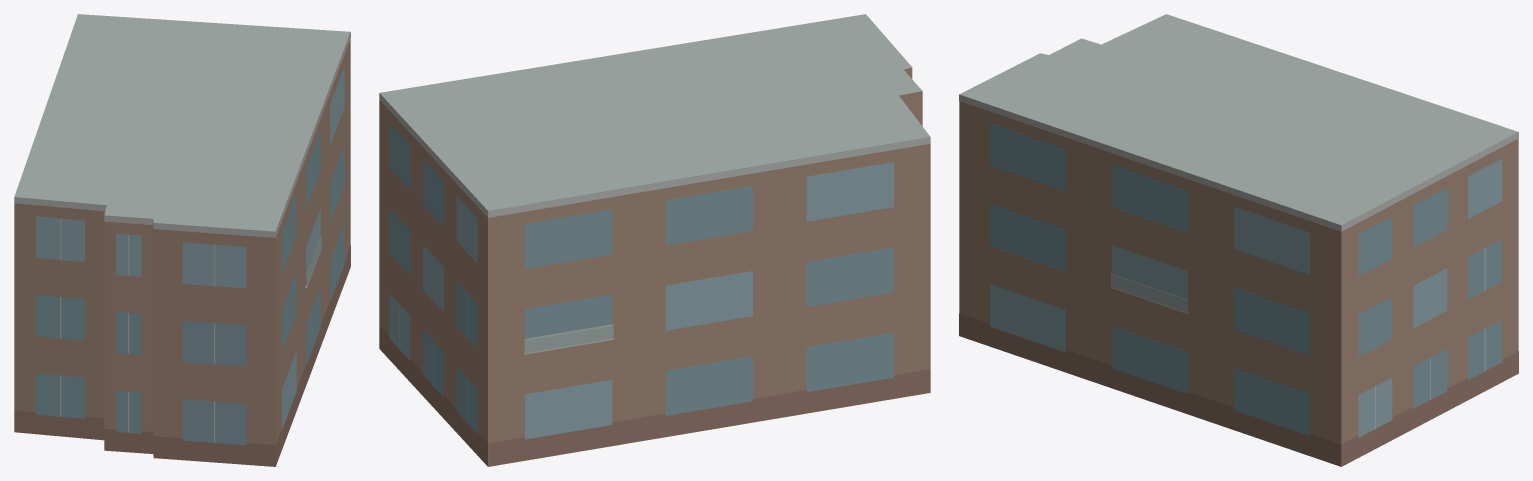
File: survey-upis-32910299.glb
3 renders of one model, left to right at view 1: azimuth 30°, elevation 25°; view 2: azimuth 150°, elevation 25°; view 3: azimuth 270°, elevation 25°, orthographic. The views are drawn at different scales.
Visible parts, largest first — view 1: survey-upis-32910299.tmp; view 2: survey-upis-32910299.tmp; view 3: survey-upis-32910299.tmp.
Boxes of the visible parts, x1,y1,x2,y2 form: survey-upis-32910299.tmp: (14,14,350,466); survey-upis-32910299.tmp: (379,14,930,466); survey-upis-32910299.tmp: (959,14,1518,466).
Bounding box in the file's own units: 17.17 × 9.15 × 19.22.
